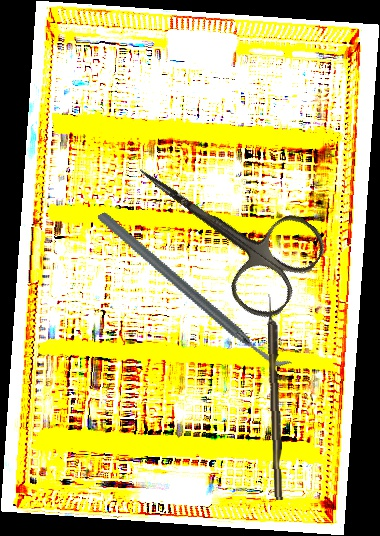Chopper: (96, 167, 294, 414)
Hook Surgical: (266, 293, 284, 501)
Iris Scissors: (109, 124, 333, 328)
